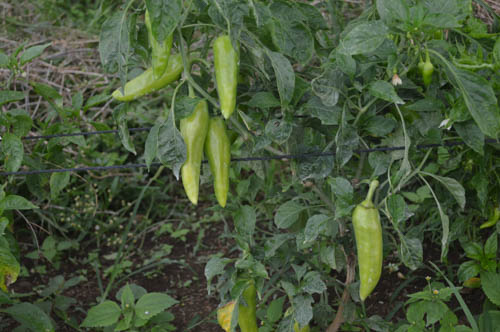ChiliPepper: (347, 198, 391, 304), (172, 94, 209, 209), (111, 53, 188, 104), (201, 116, 240, 212), (205, 29, 244, 120), (140, 7, 177, 82), (226, 278, 266, 332)
